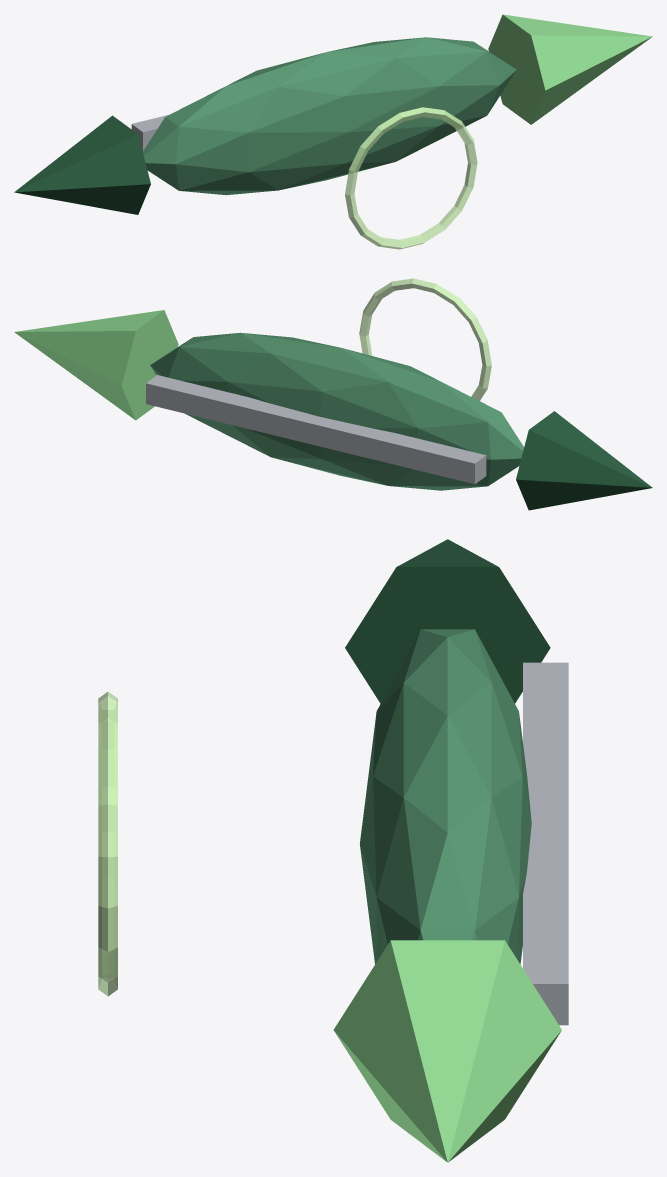
File: 05_skyship_hull.glb
3 views of the same model, one above another, from view 1: azimuth 30°, elevation 25°; view 2: azimuth 150°, elevation 25°; view 3: azimuth 270°, elevation 25° (orthographic). The views are drawn at different scales.
Parts seen in each view (by area): view 1: hull_low_poly, bow_upgrade, stern_fin, size_class_ring, keel_plate; view 2: hull_low_poly, keel_plate, bow_upgrade, stern_fin, size_class_ring; view 3: hull_low_poly, bow_upgrade, stern_fin, keel_plate, size_class_ring.
Boxes of the visible parts, box(x1,y1,x2,y2) form: hull_low_poly: box(143, 37, 516, 195); bow_upgrade: box(488, 14, 652, 124); stern_fin: box(14, 115, 150, 214); size_class_ring: box(345, 107, 477, 249); keel_plate: box(131, 115, 168, 151); hull_low_poly: box(150, 332, 523, 490); keel_plate: box(146, 375, 486, 484); bow_upgrade: box(14, 310, 178, 420); stern_fin: box(516, 411, 652, 510); size_class_ring: box(359, 278, 491, 400); hull_low_poly: box(360, 629, 531, 964); bow_upgrade: box(333, 940, 561, 1162); stern_fin: box(345, 539, 550, 703); keel_plate: box(523, 662, 568, 1025); size_class_ring: box(98, 691, 117, 996).
Size of the model in its own units: 4.52 by 0.9237 by 1.44.
